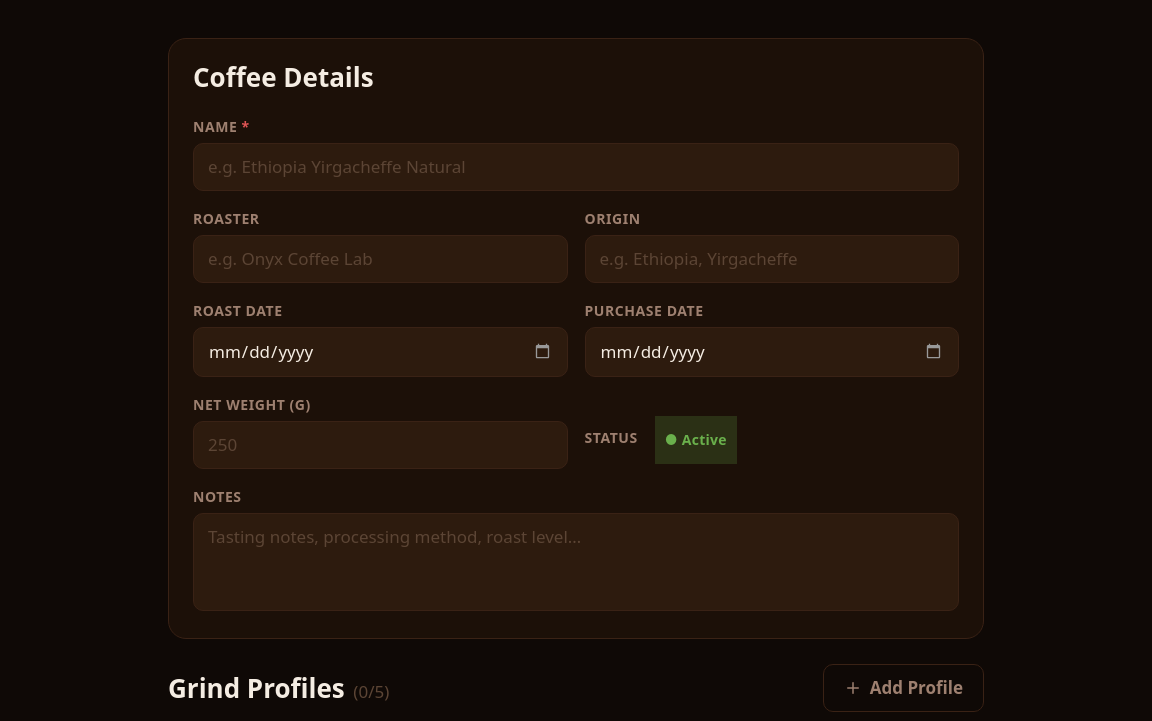
Test: CoffeeForm › grind profiles › removes a profile when its delete button is clicked
Click the button "Add Profile".
click(903, 688)  # box [823,664,984,712]
(page scrolled)
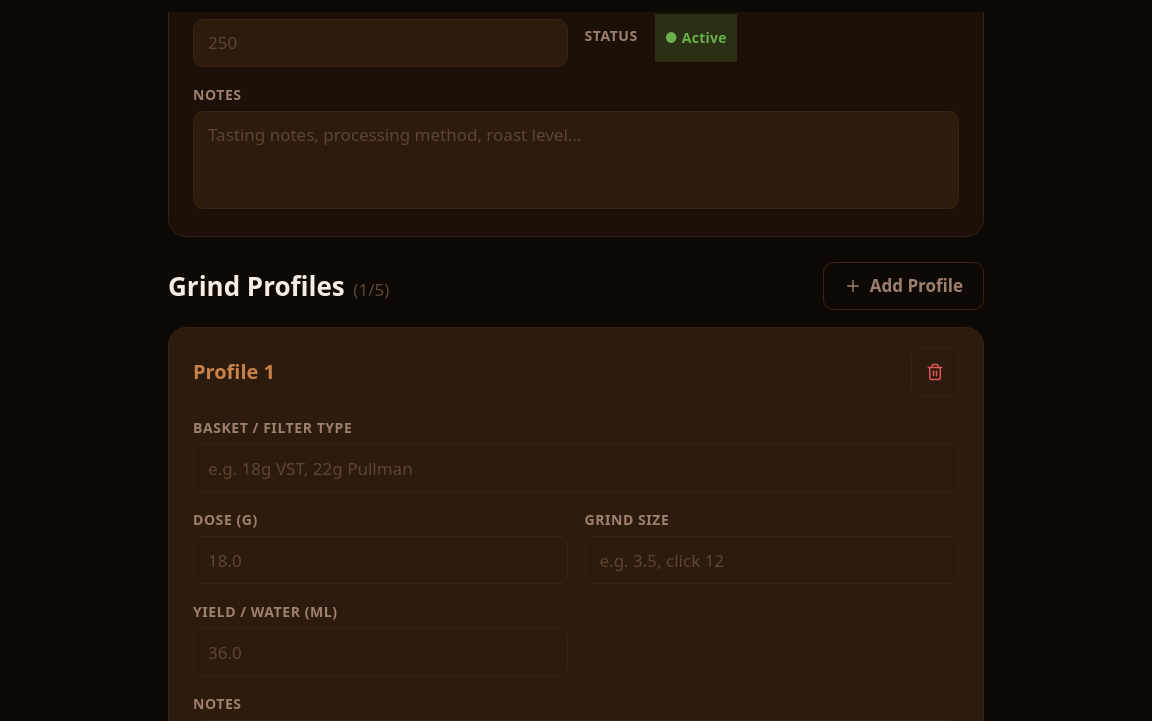
Result: the heading "Profile 1" is shown at [193,357,275,387]
Click the button titled "Remove profile".
click(935, 372)  # box [911,348,959,396]
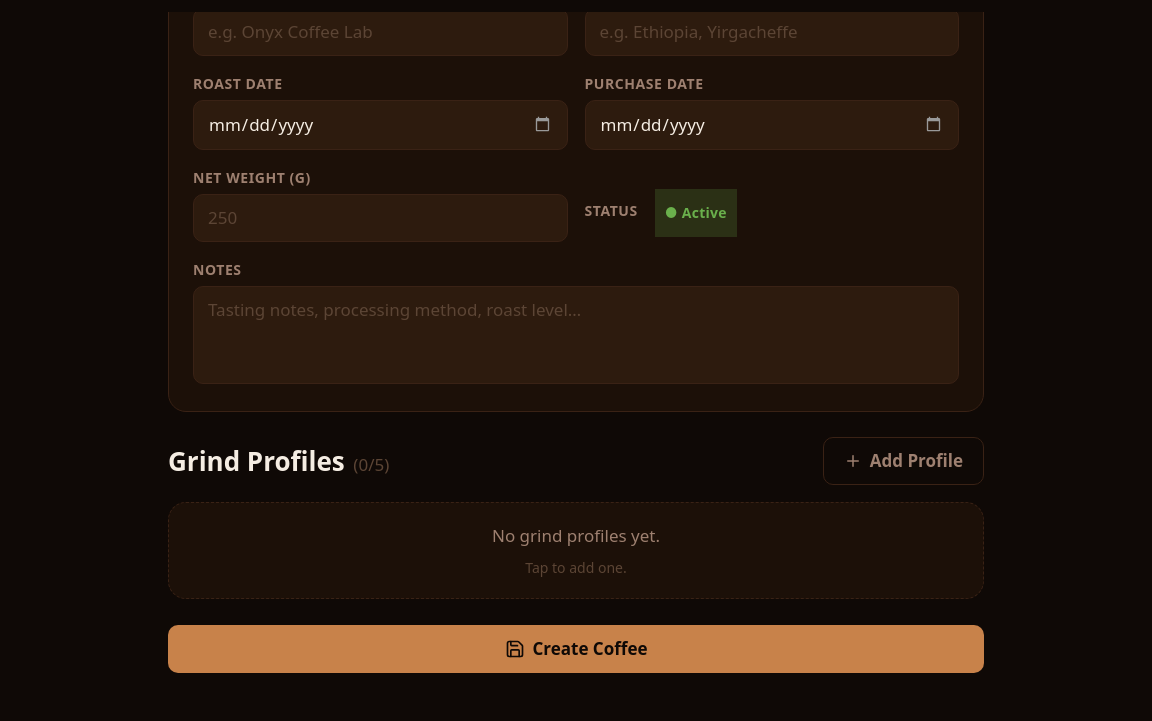
Result: the heading "Profile 1" is gone
